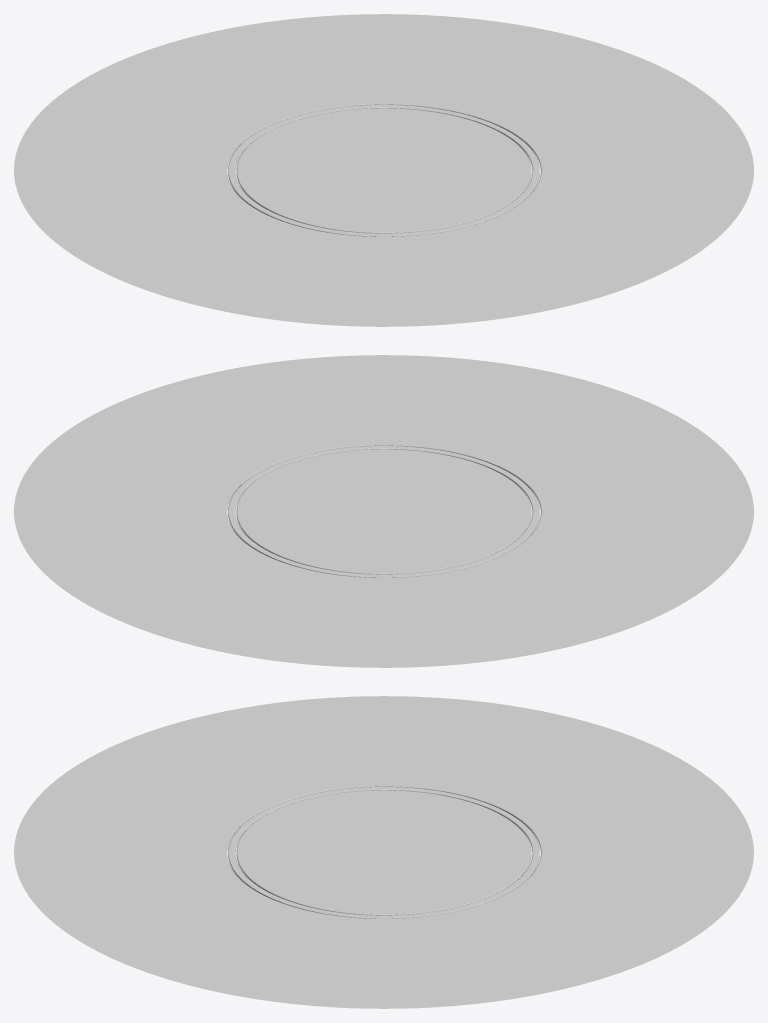
Rendered from Floor.fbx.
The picture shows the model from 3 angles, top to bottom: view 1: azimuth 30°, elevation 25°; view 2: azimuth 150°, elevation 25°; view 3: azimuth 270°, elevation 25°; orthographic projection.
Parts seen in each view (by area): view 1: Floor, Floor_Ring; view 2: Floor, Floor_Ring; view 3: Floor, Floor_Ring.
Part boxes in pixels (x1,y1,x2,y2): Floor: (14, 14, 753, 326); Floor_Ring: (227, 104, 540, 236); Floor: (14, 355, 753, 667); Floor_Ring: (227, 445, 540, 577); Floor: (14, 696, 753, 1008); Floor_Ring: (227, 786, 540, 918).
Bounding box in the file's own units: 5331 × 13.49 × 5331.
